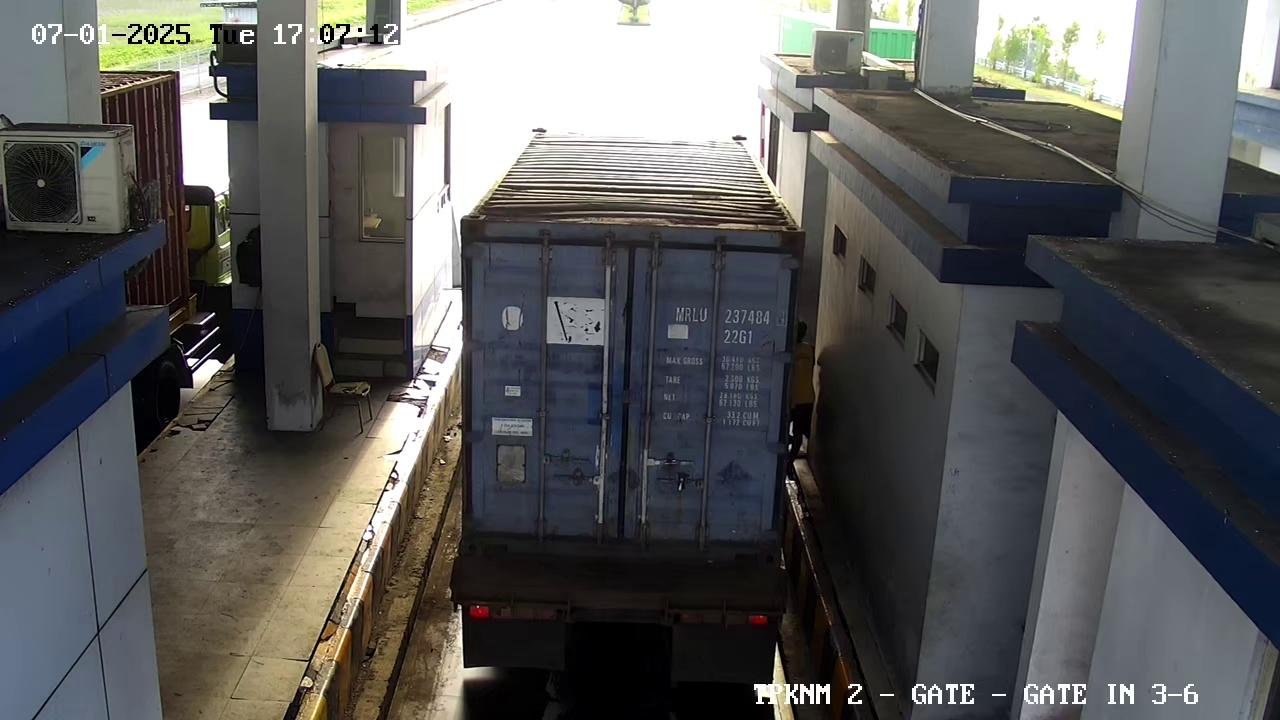Container_ID: (674, 294, 789, 329)
